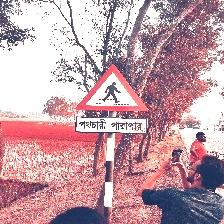Pedestrian-crossing: (75, 65, 150, 135)
